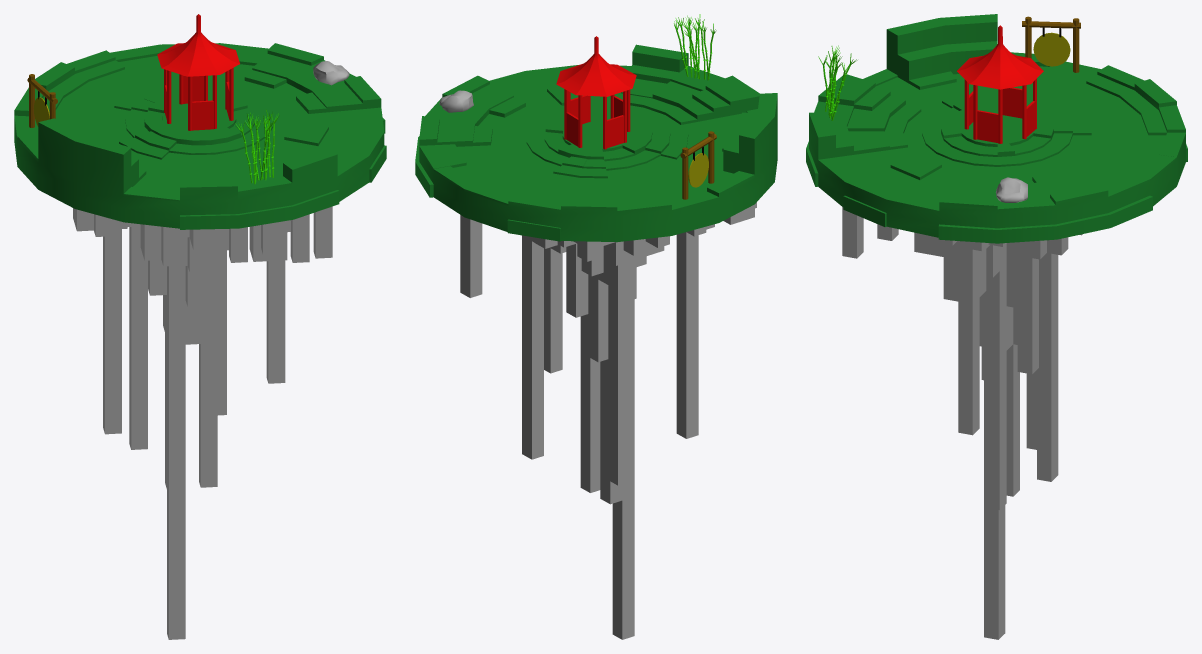
The picture shows the model from 3 angles, left to right: view 1: azimuth 30°, elevation 25°; view 2: azimuth 150°, elevation 25°; view 3: azimuth 270°, elevation 25°; orthographic projection. The views are drawn at different scales.
Visible parts, largest first — view 1: ring, underworld, shrine1, bamboo, gong1, rock1; view 2: ring, underworld, shrine1, gong1, bamboo, rock1; view 3: ring, underworld, shrine1, gong1, bamboo, rock1.
Part boxes in pixels (bbox=[...]): ring: bbox=[14, 43, 386, 229]; underworld: bbox=[73, 206, 332, 639]; shrine1: bbox=[157, 14, 239, 130]; bamboo: bbox=[235, 109, 279, 184]; gong1: bbox=[27, 74, 57, 127]; rock1: bbox=[313, 61, 349, 85]; ring: bbox=[415, 44, 777, 242]; underworld: bbox=[460, 202, 756, 639]; shrine1: bbox=[556, 36, 636, 149]; gong1: bbox=[680, 131, 716, 199]; bamboo: bbox=[674, 14, 716, 80]; rock1: bbox=[439, 90, 473, 112]; ring: bbox=[806, 14, 1187, 243]; underworld: bbox=[842, 207, 1082, 639]; shrine1: bbox=[957, 25, 1043, 143]; gong1: bbox=[1022, 16, 1080, 72]; bamboo: bbox=[818, 45, 857, 120]; rock1: bbox=[996, 177, 1027, 202].
Size of the model in its own units: 134 by 242 by 135.
